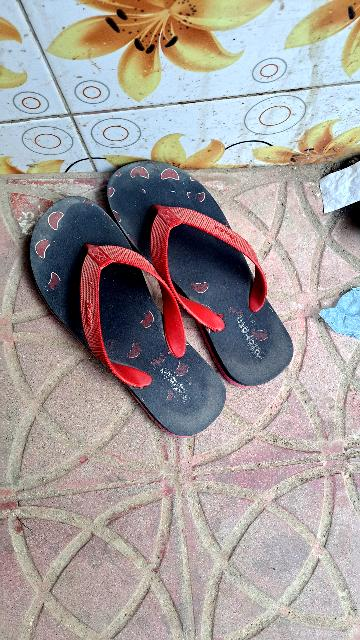sandal: (73, 106, 316, 422), (6, 170, 242, 461)
